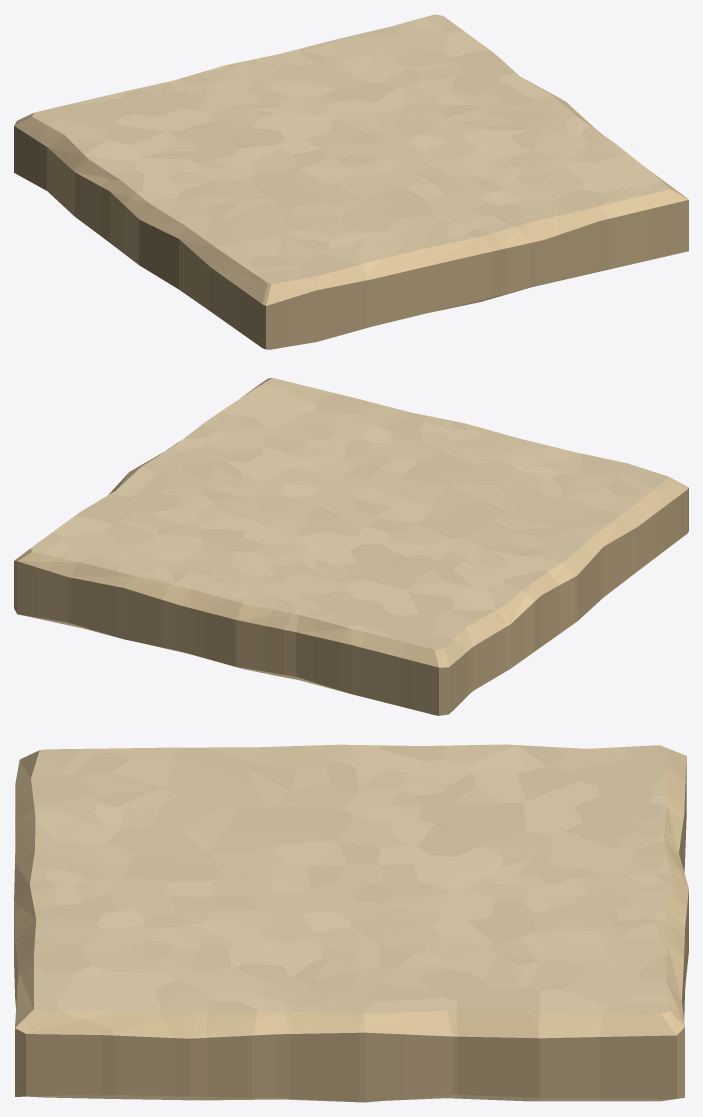
Rendered from tile_b_intact.glb.
3 views of the same model, one above another, from view 1: azimuth 30°, elevation 25°; view 2: azimuth 150°, elevation 25°; view 3: azimuth 270°, elevation 25° (orthographic). The views are drawn at different scales.
Parts seen in each view (by area): view 1: tile_b_intact; view 2: tile_b_intact; view 3: tile_b_intact.
Boxes of the visible parts, left/top/right/bottom form: tile_b_intact: left=14, top=14, right=688, bottom=349; tile_b_intact: left=14, top=378, right=688, bottom=715; tile_b_intact: left=14, top=744, right=688, bottom=1102.
Bounding box in the file's own units: 2.8 × 0.4 × 2.8.
3 materials, 3 textured.
